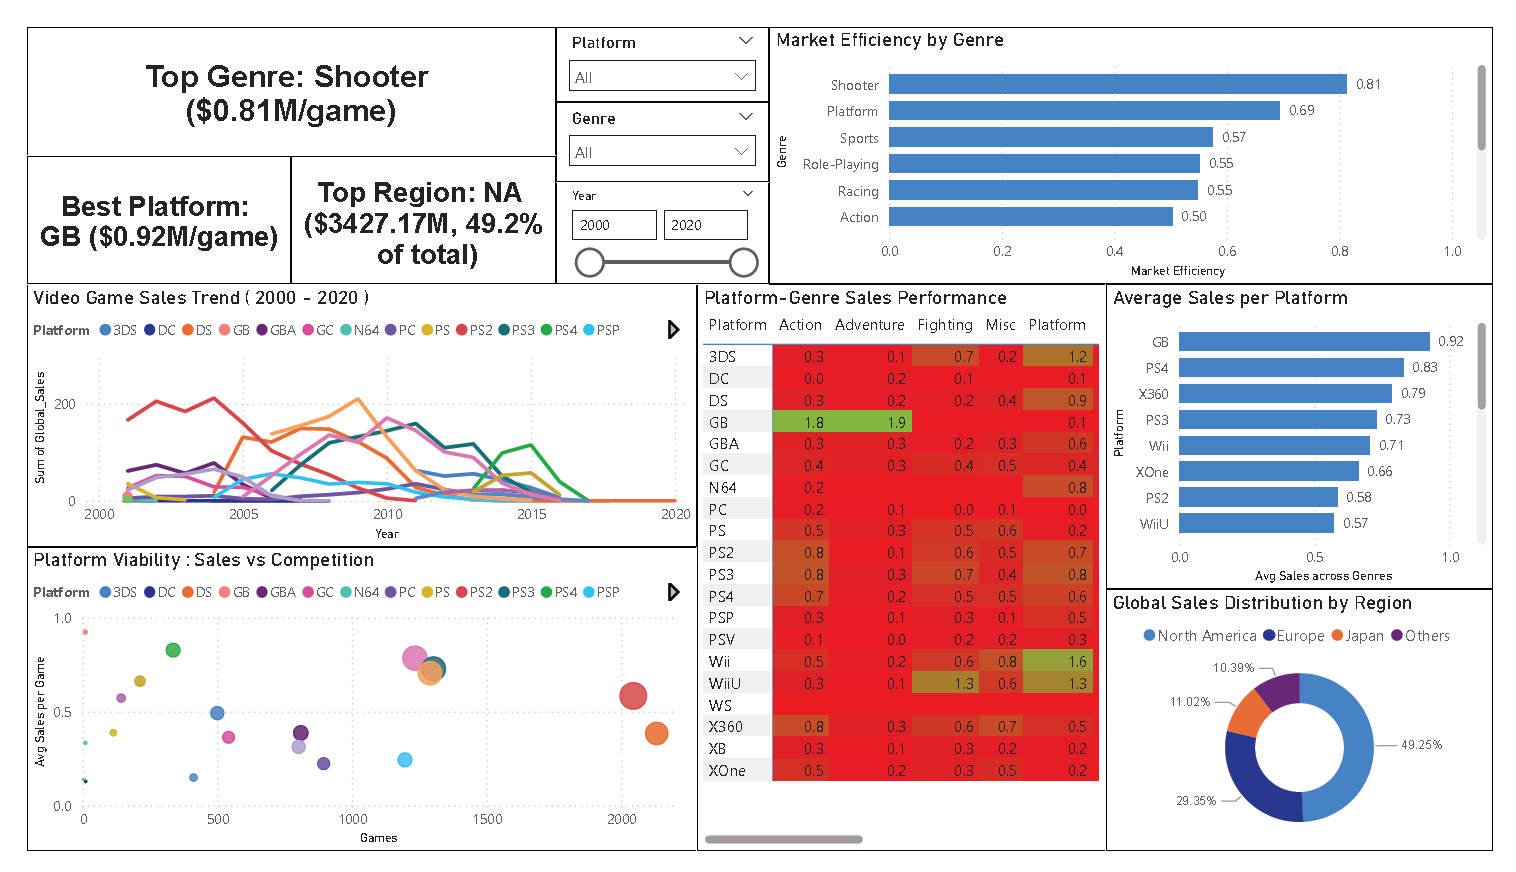

This screenshot's page, from the dashboard's own definition file:
{"tool":"powerbi","page":{"name":"Page 1","canvas":[1280,720],"ordinal":0},"visuals":[{"type":"clusteredBarChart","fields":{"Category":["vg_sales_cleaned.Genre"],"Y":["vg_sales_cleaned.Market Efficiency"]},"box":[648.2,0,631.8,224.5],"z":0},{"type":"scatterChart","title":"Platform Viability : Sales vs Competition","fields":{"X":["vg_sales_cleaned.Name"],"Y":["vg_sales_cleaned.Avg Sales per Game"],"Size":["Sum(vg_sales_cleaned.Global_Sales)"],"Series":["vg_sales_cleaned.Platform"]},"box":[0,453.6,585.5,266.4],"z":1},{"type":"pivotTable","title":"Platform-Genre Sales Performance","fields":{"Rows":["vg_sales_cleaned.Platform"],"Columns":["vg_sales_cleaned.Genre"],"Values":["vg_sales_cleaned.Avg Sales per Game"]},"box":[585.5,224.5,356.4,495.5],"z":2},{"type":"clusteredBarChart","title":"Average Sales per Platform","fields":{"Category":["vg_sales_cleaned.Platform"],"Y":["vg_sales_cleaned.Avg Sales per Game"]},"box":[941.8,224.5,338.2,266.4],"z":3},{"type":"donutChart","title":"Global Sales Distribution by Region","fields":{"Y":["Sum(vg_sales_cleaned.NA_Sales)","Sum(vg_sales_cleaned.EU_Sales)","Sum(vg_sales_cleaned.JP_Sales)","Sum(vg_sales_cleaned.Other_Sales)"]},"box":[941.8,490.9,338.2,229.1],"z":4},{"type":"lineChart","title":"Video Game Sales Trend ( 2000 - 2020 )","fields":{"Category":["vg_sales_cleaned.Year"],"Y":["Sum(vg_sales_cleaned.Global_Sales)"],"Series":["vg_sales_cleaned.Platform"]},"box":[0,224.5,585.5,229.1],"z":5},{"type":"slicer","fields":{"Values":["vg_sales_cleaned.Year"]},"box":[461.8,134.5,186.4,90],"z":6},{"type":"slicer","fields":{"Values":["vg_sales_cleaned.Platform"]},"box":[461.8,0,186.4,66.4],"z":7},{"type":"slicer","fields":{"Values":["vg_sales_cleaned.Genre"]},"box":[461.8,66.4,186.4,70],"z":8},{"type":"card","fields":{"Values":["vg_sales_cleaned.Top Genre Efficiency"]},"box":[0,0,461.8,112.7],"z":9},{"type":"card","fields":{"Values":["vg_sales_cleaned.Best Platform"]},"box":[0,112.7,230.9,111.8],"z":10},{"type":"card","fields":{"Values":["vg_sales_cleaned.Top Region"]},"box":[230.9,112.7,230.9,111.8],"z":11}]}

Visuals, with their boxes in screenshot pixels (x1, y1, x2, y2), scaled from the page's 1280x720 canvas onto the 1516x872 screenshot:
clusteredBarChart - vg_sales_cleaned.Genre x vg_sales_cleaned.Market Efficiency: <region>768, 0, 1515, 272</region>
"Platform Viability : Sales vs Competition" scatterChart: <region>0, 549, 693, 871</region>
"Platform-Genre Sales Performance" pivotTable: <region>693, 272, 1116, 871</region>
"Average Sales per Platform" clusteredBarChart: <region>1115, 272, 1515, 595</region>
"Global Sales Distribution by Region" donutChart: <region>1115, 595, 1515, 871</region>
"Video Game Sales Trend ( 2000 - 2020 )" lineChart: <region>0, 272, 693, 549</region>
slicer - vg_sales_cleaned.Year: <region>547, 163, 768, 272</region>
slicer - vg_sales_cleaned.Platform: <region>547, 0, 768, 80</region>
slicer - vg_sales_cleaned.Genre: <region>547, 80, 768, 165</region>
card - vg_sales_cleaned.Top Genre Efficiency: <region>0, 0, 547, 136</region>
card - vg_sales_cleaned.Best Platform: <region>0, 136, 273, 272</region>
card - vg_sales_cleaned.Top Region: <region>273, 136, 547, 272</region>
